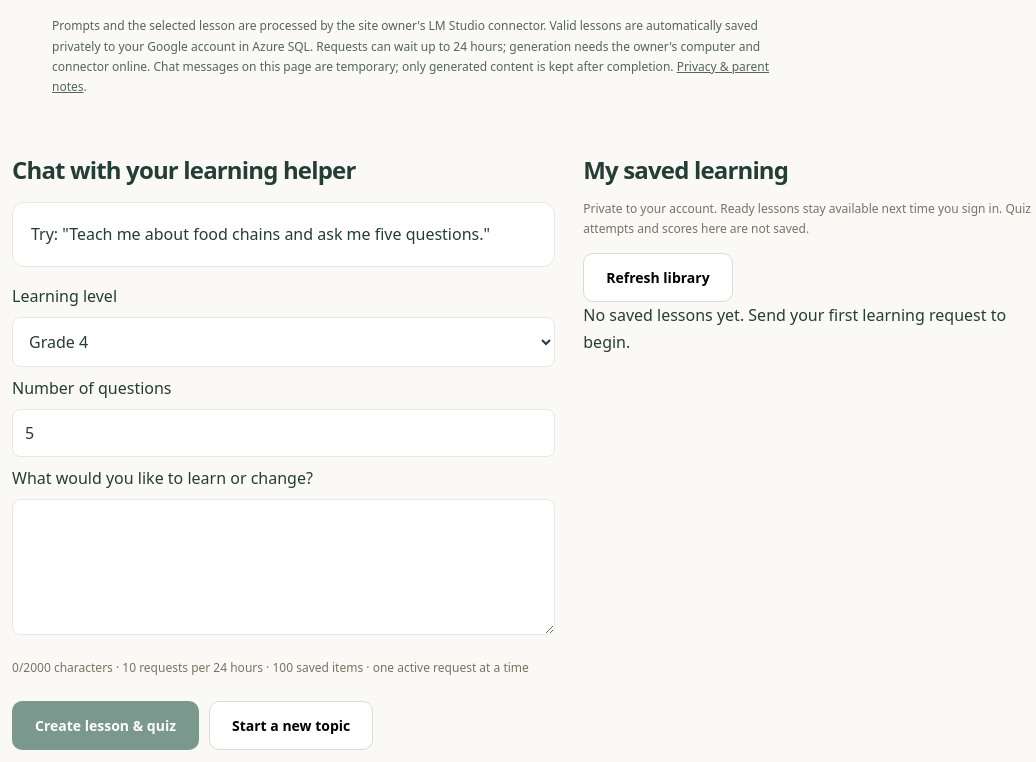
Scenario: AI Learning Studio › does not claim success on generation or library errors and preserves the prompt
This screenshot has width=1036, height=762.
(page scrolled)
In the text box labelled "What would you like to learn or change?": coordinates (284, 567) [12, 499, 555, 635], type "Teach me plants"
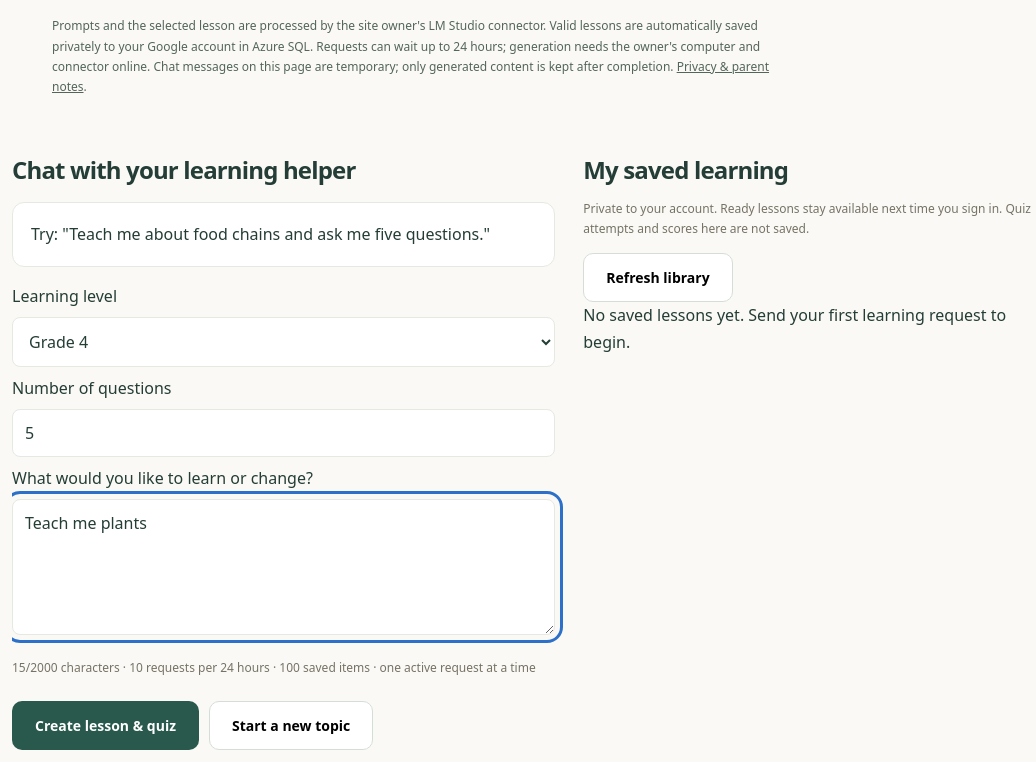
Click the button "Create lesson & quiz": coordinates (106, 726) [12, 701, 199, 750]
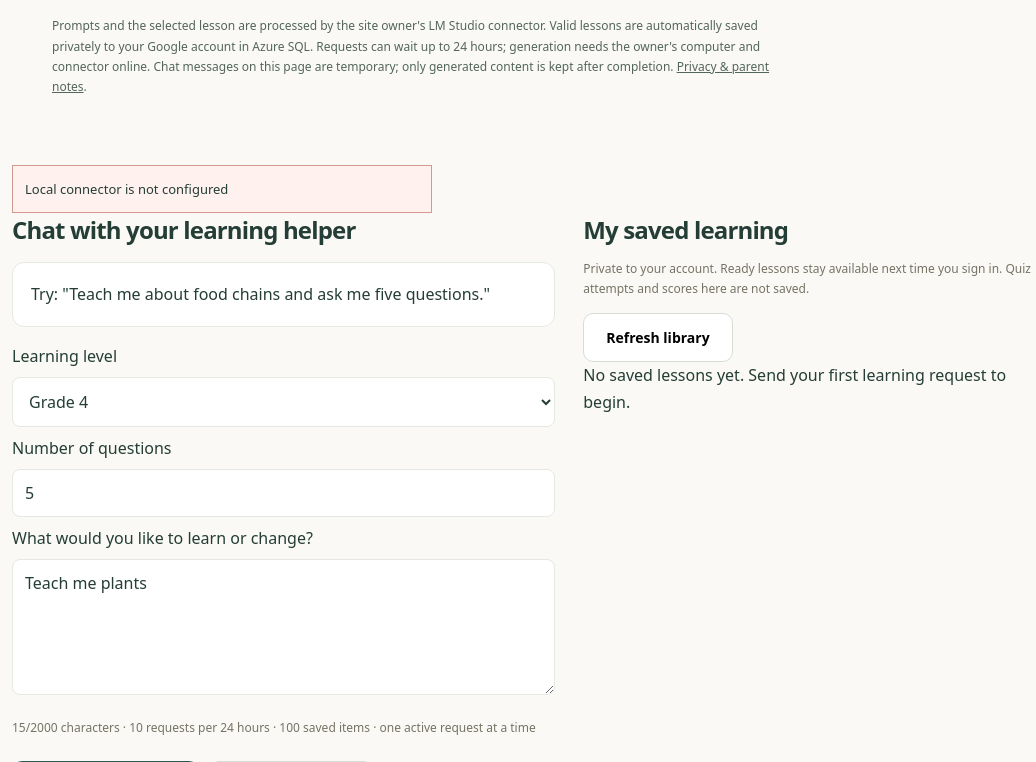
Expected: the element showing "Try: \"Teach me about food chains and ask me five questions.\"" does not show "Request queued", [12, 262, 555, 327]
Expected: the message shows "not configured", [25, 180, 228, 198]
